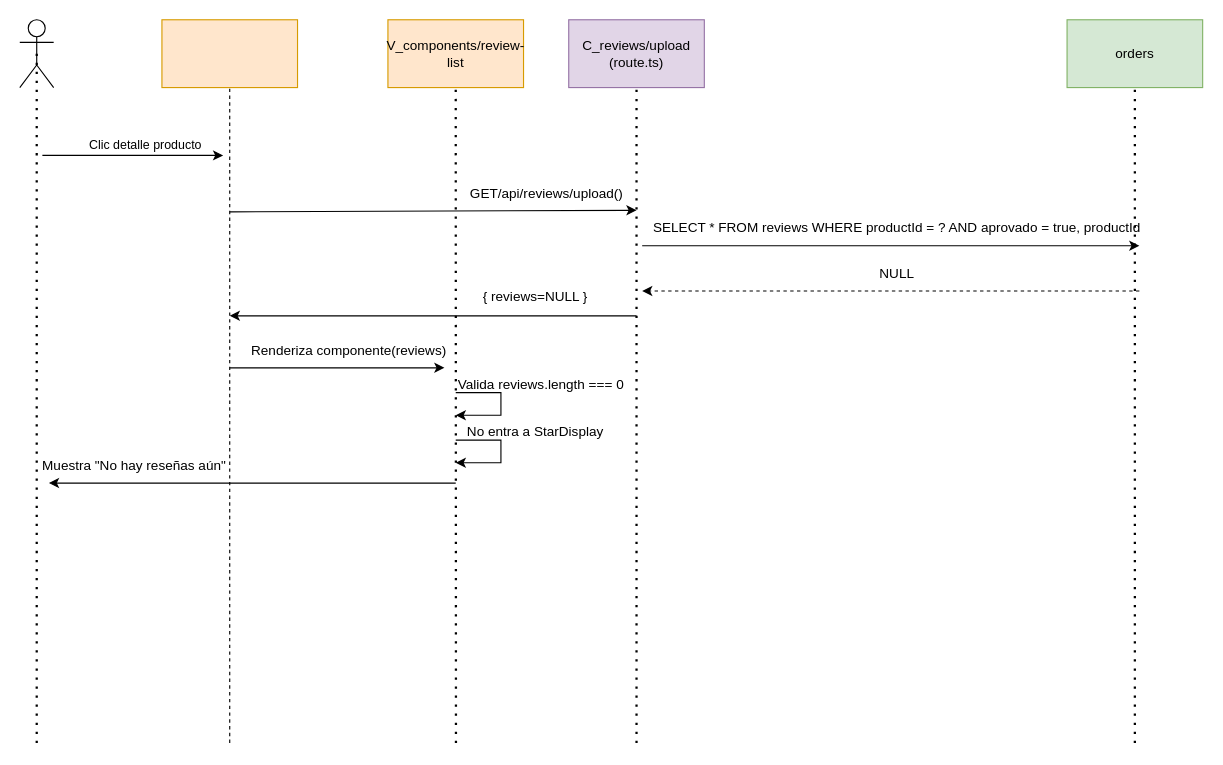
This 1223x765 diagram has some shape labels left out. The centre of each missing label's shape, as x and y in pixels:
"Actor" belongs at [36,53].
"V_producto/id" belongs at [229,53].
